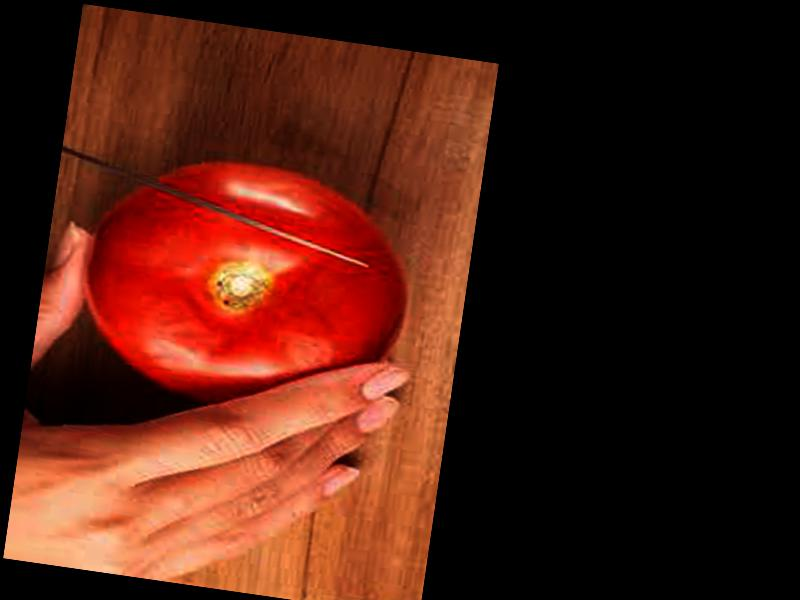Tomato: (73, 148, 419, 429)
